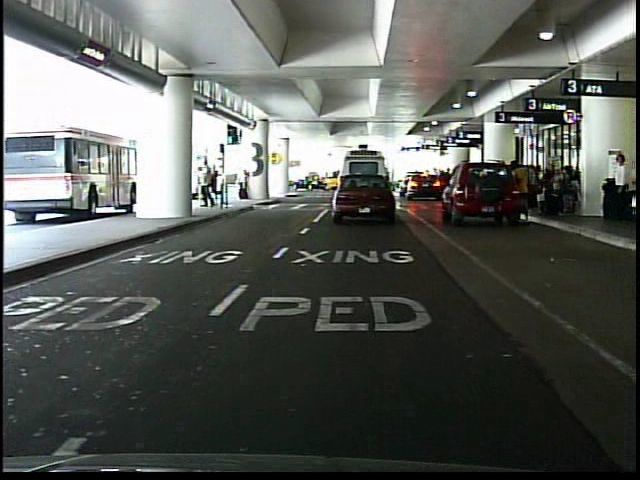person: (605, 149, 631, 229), (199, 155, 217, 211), (237, 166, 255, 203), (210, 163, 222, 210), (522, 159, 523, 223)
